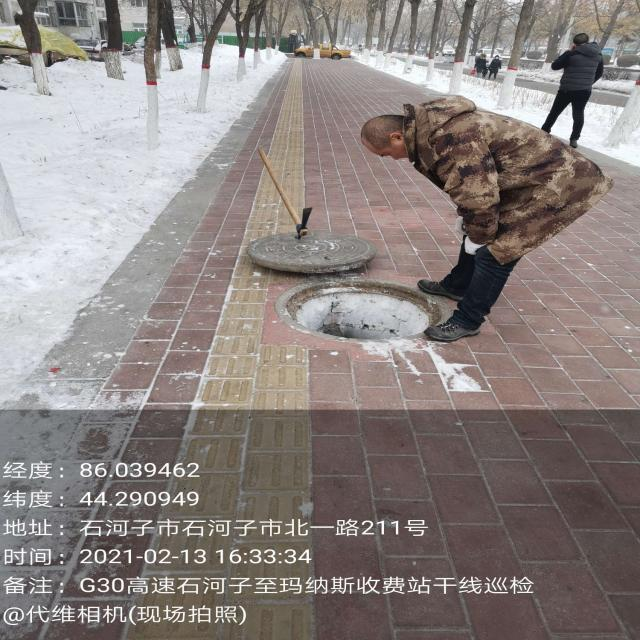manhole: (278, 280, 449, 341)
